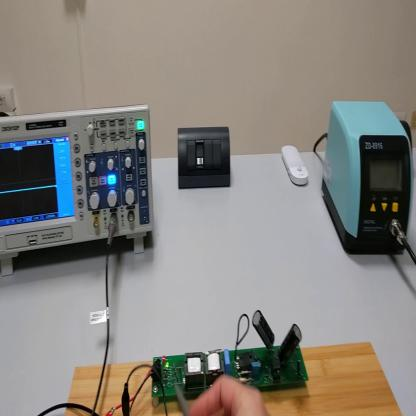hand: (189, 375, 268, 415)
high voltage board: (115, 310, 313, 414)
oscilloscope: (2, 103, 158, 276)
oscilloscope probe tip: (172, 375, 194, 415)
welder station: (321, 101, 413, 261)
working area: (68, 342, 404, 416)
